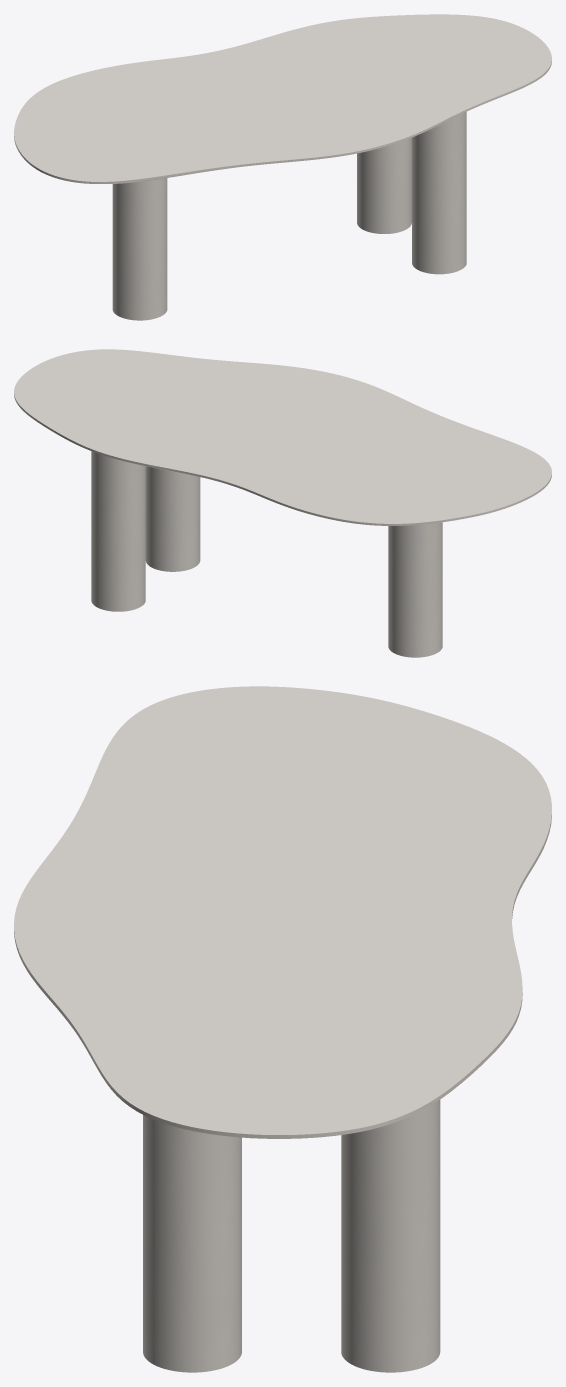
Rendered from pearlwhite_toplast_facet_cylinder.glb.
3 views of the same model, one above another, from view 1: azimuth 30°, elevation 25°; view 2: azimuth 150°, elevation 25°; view 3: azimuth 270°, elevation 25° (orthographic). The views are drawn at different scales.
Visible parts, largest first — view 1: facet_toplast, cylinder; view 2: facet_toplast, cylinder; view 3: facet_toplast, cylinder.
Boxes of the visible parts, x1,y1,x2,y2 form: facet_toplast: (14,14,551,183); cylinder: (112,112,466,320); facet_toplast: (14,349,551,525); cylinder: (91,451,442,657); facet_toplast: (14,686,551,1138); cylinder: (143,1100,440,1372).
Size of the model in its own units: 7.5 by 2.52 by 3.8.
Materials: 1 (1 with a texture image).
